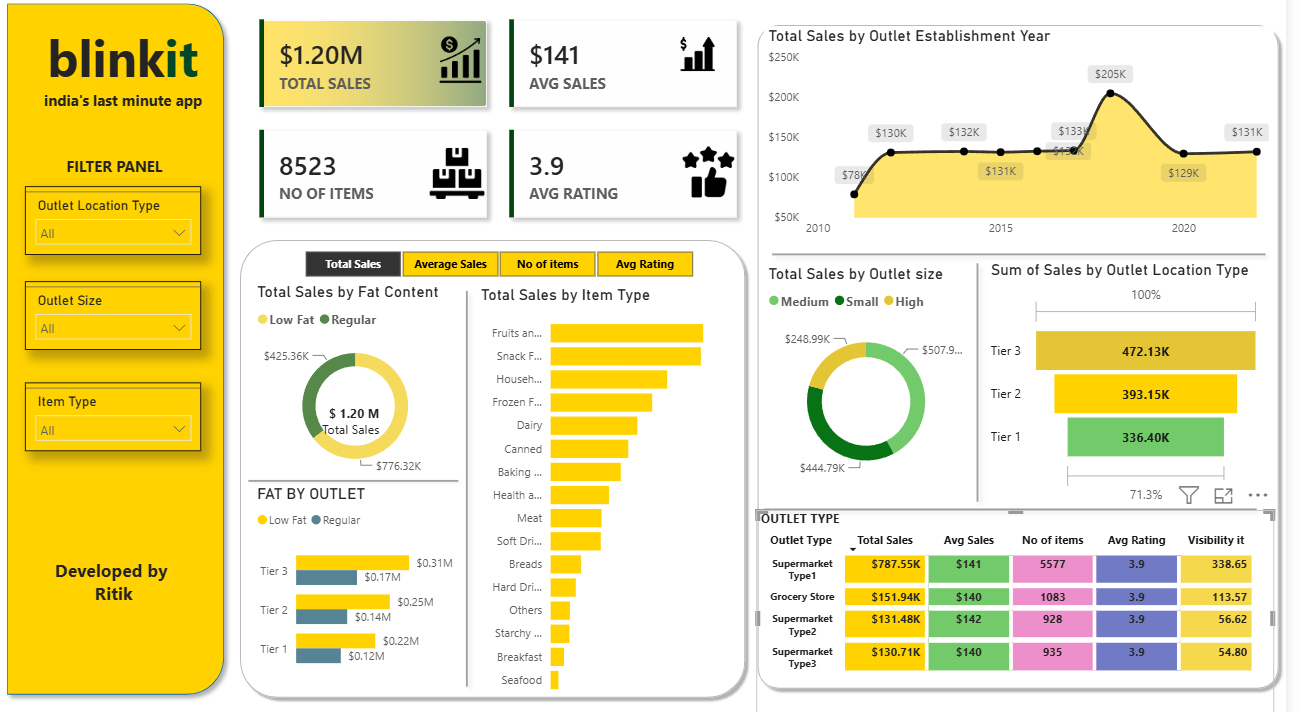

What the dashboard file says about the page in this screenshot:
{"tool":"powerbi","page":{"name":"Page 1","canvas":[1400,800],"ordinal":0},"visuals":[{"type":"shape","box":[19.5,16.5,250.6,759.4],"z":0},{"type":"textbox","box":[49.5,42,207.1,88.6],"z":1000},{"type":"textbox","box":[49.6,112.6,207.8,36.2],"z":2000},{"type":"cardVisual","fields":{"Data":["BlinkIT Grocery Data.Total Sales","BlinkIT Grocery Data.Average Sales","BlinkIT Grocery Data.No of items","BlinkIT Grocery Data.Avg Rating"]},"box":[270.2,13.5,570.3,270.2],"z":3000},{"type":"textbox","box":[850,14,550,270],"z":4000},{"type":"shape","box":[271.7,271.7,555.3,504.3],"z":5000},{"type":"donutChart","title":"Total Sales by  Fat Content","fields":{"Y":["BlinkIT Grocery Data.Total Sales"],"Category":["BlinkIT Grocery Data.Item Fat Content"]},"box":[292.7,324.2,220.6,216.1],"z":6000},{"type":"slicer","fields":{"Values":["Metrics.Metrics"]},"box":[322.7,283.7,465.3,40.5],"z":7000},{"type":"textbox","box":[361.7,450.3,82.5,51],"z":8000},{"type":"clusteredBarChart","title":"FAT BY OUTLET","fields":{"Y":["BlinkIT Grocery Data.Total Sales"],"Category":["BlinkIT Grocery Data.Outlet Location Type"],"Series":["BlinkIT Grocery Data.Item Fat Content"]},"box":[292.7,540.3,220.6,216.1],"z":9000},{"type":"shape","box":[279.2,528.3,243.1,12],"z":10000},{"type":"shape","box":[512.1,324.4,20.1,442.4],"z":11000},{"type":"barChart","fields":{"Y":["BlinkIT Grocery Data.Total Sales"],"Category":["BlinkIT Grocery Data.Item Type"]},"box":[532.8,327.2,268.7,448.8],"z":12000},{"type":"shape","box":[827.1,41.6,572.4,725.2],"z":13000},{"type":"lineChart","fields":{"Category":["BlinkIT Grocery Data.Outlet Establishment Year"],"Y":["BlinkIT Grocery Data.Total Sales"]},"box":[840.5,49.6,546.9,234.6],"z":14000},{"type":"shape","box":[840.5,284.2,546.9,20.1],"z":15000},{"type":"donutChart","title":"Total Sales by Outlet size","fields":{"Y":["BlinkIT Grocery Data.Total Sales"],"Category":["BlinkIT Grocery Data.Outlet Size"]},"box":[840.5,304.3,219.8,246.7],"z":16000},{"type":"shape","box":[1060.3,294.9,18.8,273.5],"z":17000},{"type":"funnel","fields":{"Category":["BlinkIT Grocery Data.Outlet Location Type"],"Y":["Sum(BlinkIT Grocery Data.Sales)"]},"box":[1079.1,300.3,298.9,268.1],"z":18000},{"type":"pivotTable","title":"OUTLET TYPE","fields":{"Rows":["BlinkIT Grocery Data.Outlet Type"],"Values":["BlinkIT Grocery Data.Total Sales","BlinkIT Grocery Data.Average Sales","BlinkIT Grocery Data.No of items","BlinkIT Grocery Data.Avg Rating","Sum(BlinkIT Grocery Data.Item Visibility)"]},"box":[832.4,568.4,555,231.9],"z":19000},{"type":"shape","box":[832.4,550.9,545.6,33.5],"z":20000},{"type":"slicer","fields":{"Values":["BlinkIT Grocery Data.Outlet Location Type"]},"box":[48.3,221.2,189,73.7],"z":21000},{"type":"slicer","fields":{"Values":["BlinkIT Grocery Data.Outlet Size"]},"box":[48.3,323.1,189,73.7],"z":21001},{"type":"slicer","fields":{"Values":["BlinkIT Grocery Data.Item Type"]},"box":[48.3,431.6,189,73.7],"z":21002},{"type":"textbox","box":[49.6,183.6,189,37.5],"z":21003},{"type":"textbox","box":[48.3,615.3,190.3,67],"z":21004}]}

Visuals, with their boxes on the page's 1400x800 design canvas (x1, y1, x2, y2). These are canvas units, not pixel positions in the 1302x712 screenshot, which may show the page scaled, cropped or inside an application window:
shape: left=20, top=16, right=270, bottom=776
textbox: left=50, top=42, right=257, bottom=131
textbox: left=50, top=113, right=257, bottom=149
cardVisual - BlinkIT Grocery Data.Total Sales x BlinkIT Grocery Data.Average Sales: left=270, top=14, right=840, bottom=284
textbox: left=850, top=14, right=1400, bottom=284
shape: left=272, top=272, right=827, bottom=776
"Total Sales by  Fat Content" donutChart: left=293, top=324, right=513, bottom=540
slicer - Metrics.Metrics: left=323, top=284, right=788, bottom=324
textbox: left=362, top=450, right=444, bottom=501
"FAT BY OUTLET" clusteredBarChart: left=293, top=540, right=513, bottom=756
shape: left=279, top=528, right=522, bottom=540
shape: left=512, top=324, right=532, bottom=767
barChart - BlinkIT Grocery Data.Total Sales x BlinkIT Grocery Data.Item Type: left=533, top=327, right=802, bottom=776
shape: left=827, top=42, right=1400, bottom=767
lineChart - BlinkIT Grocery Data.Outlet Establishment Year x BlinkIT Grocery Data.Total Sales: left=840, top=50, right=1387, bottom=284
shape: left=840, top=284, right=1387, bottom=304
"Total Sales by Outlet size" donutChart: left=840, top=304, right=1060, bottom=551
shape: left=1060, top=295, right=1079, bottom=568
funnel - BlinkIT Grocery Data.Outlet Location Type x Sum(BlinkIT Grocery Data.Sales): left=1079, top=300, right=1378, bottom=568
"OUTLET TYPE" pivotTable: left=832, top=568, right=1387, bottom=800
shape: left=832, top=551, right=1378, bottom=584
slicer - BlinkIT Grocery Data.Outlet Location Type: left=48, top=221, right=237, bottom=295
slicer - BlinkIT Grocery Data.Outlet Size: left=48, top=323, right=237, bottom=397
slicer - BlinkIT Grocery Data.Item Type: left=48, top=432, right=237, bottom=505
textbox: left=50, top=184, right=239, bottom=221
textbox: left=48, top=615, right=239, bottom=682
